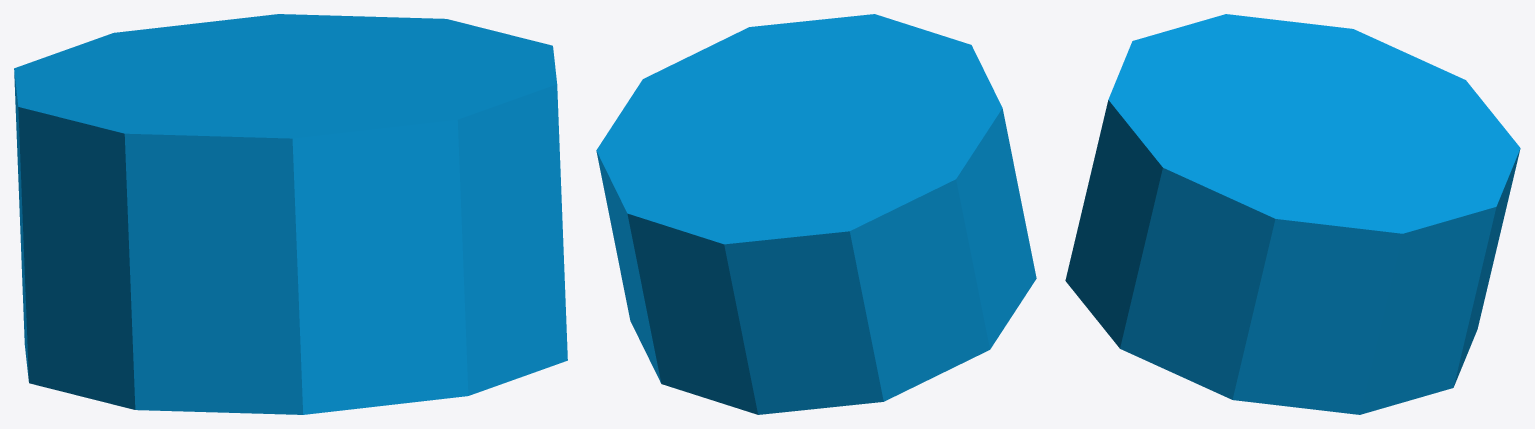
The model's file is group1776190126_lev3.glb.
3 renders of one model, left to right at view 1: azimuth 30°, elevation 25°; view 2: azimuth 150°, elevation 25°; view 3: azimuth 270°, elevation 25°, orthographic. The views are drawn at different scales.
Visible parts, largest first — view 1: group1776190126_lev3; view 2: group1776190126_lev3; view 3: group1776190126_lev3.
Boxes of the visible parts, x1=… form: group1776190126_lev3: x1=14, y1=14, x2=567, y2=414; group1776190126_lev3: x1=596, y1=14, x2=1036, y2=414; group1776190126_lev3: x1=1065, y1=14, x2=1520, y2=414.
Size of the model in its own units: 0.5599 by 0.3854 by 0.5895.
